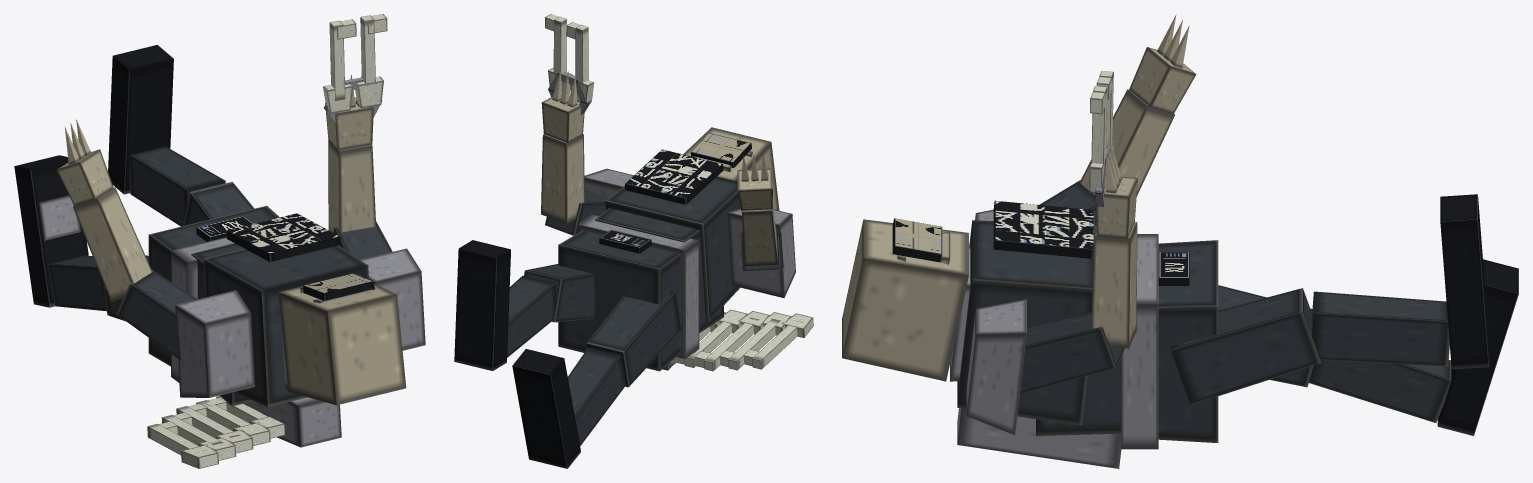
File: absentiel_move.obj
The picture shows the model from 3 angles, left to right: view 1: azimuth 30°, elevation 25°; view 2: azimuth 150°, elevation 25°; view 3: azimuth 270°, elevation 25°; orthographic projection. The views are drawn at different scales.
Parts seen in each view (by area): view 1: absentiel_move; view 2: absentiel_move; view 3: absentiel_move.
Part boxes in pixels (left/top/right/bottom): absentiel_move: left=14, top=14, right=425, bottom=468; absentiel_move: left=454, top=14, right=813, bottom=468; absentiel_move: left=842, top=15, right=1518, bottom=468.
Size of the model in its own units: 0.6057 by 0.7241 by 1.04.
Materials: 1 (1 with a texture image).
